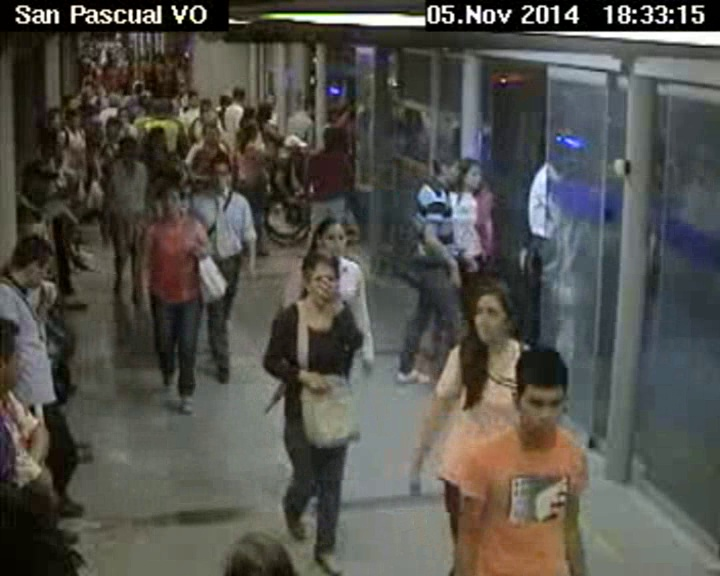person: (513, 343, 570, 441), (215, 517, 299, 576), (455, 280, 514, 344), (8, 225, 61, 293), (1, 317, 46, 388), (296, 251, 345, 314), (308, 211, 353, 263), (24, 159, 58, 203), (153, 181, 190, 220), (430, 150, 464, 189), (204, 152, 233, 191), (316, 123, 348, 150), (460, 157, 480, 194), (145, 125, 169, 149), (117, 136, 139, 160), (103, 115, 122, 142), (52, 127, 71, 151), (240, 123, 258, 147), (151, 98, 173, 117), (45, 105, 62, 128), (202, 123, 218, 147), (113, 105, 133, 123), (258, 102, 274, 123), (60, 92, 78, 110), (243, 104, 257, 125), (185, 88, 199, 109), (200, 96, 213, 115), (217, 92, 232, 108), (106, 93, 122, 108), (65, 111, 79, 128), (231, 85, 244, 102)
